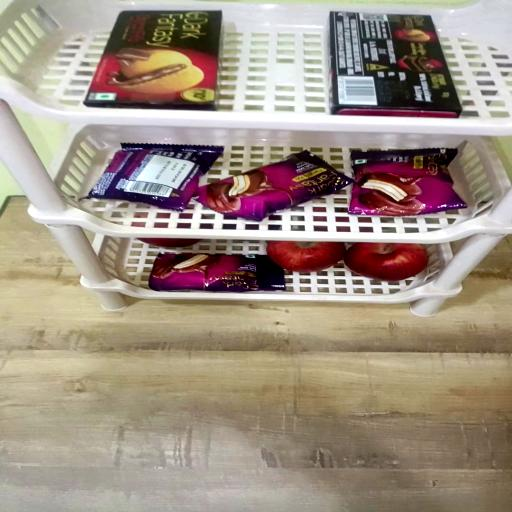Apple: (344, 244, 428, 282), (267, 242, 346, 274), (139, 236, 203, 248)
Choco Fills: (83, 9, 220, 111), (332, 14, 462, 118)
Choco Pie: (197, 152, 354, 224), (82, 142, 222, 209), (350, 146, 466, 215), (151, 254, 287, 294)
